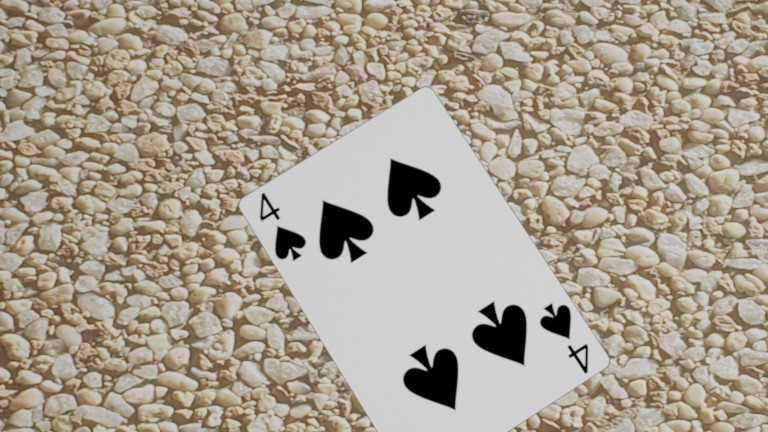4_of_spades: (528, 293, 608, 383), (241, 184, 317, 271)
